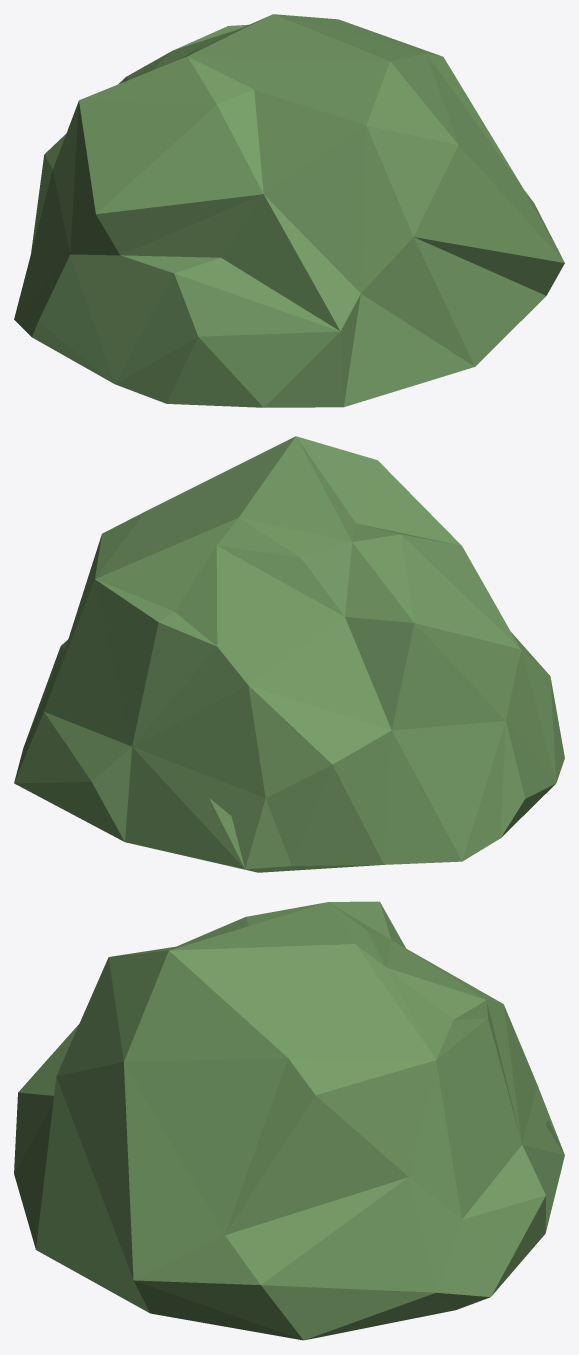
Rendered from zone1-stone2.glb.
3 renders of one model, top to bottom at view 1: azimuth 30°, elevation 25°; view 2: azimuth 150°, elevation 25°; view 3: azimuth 270°, elevation 25°, orthographic. The views are drawn at different scales.
Parts seen in each view (by area): view 1: vegetation-sea-small-a.001; view 2: vegetation-sea-small-a.001; view 3: vegetation-sea-small-a.001.
Part boxes in pixels (box(x1,y1,x2,y2)): vegetation-sea-small-a.001: box(14, 14, 564, 407); vegetation-sea-small-a.001: box(14, 436, 564, 872); vegetation-sea-small-a.001: box(14, 901, 564, 1340).
Size of the model in its own units: 4.38 by 2.43 by 4.09.
